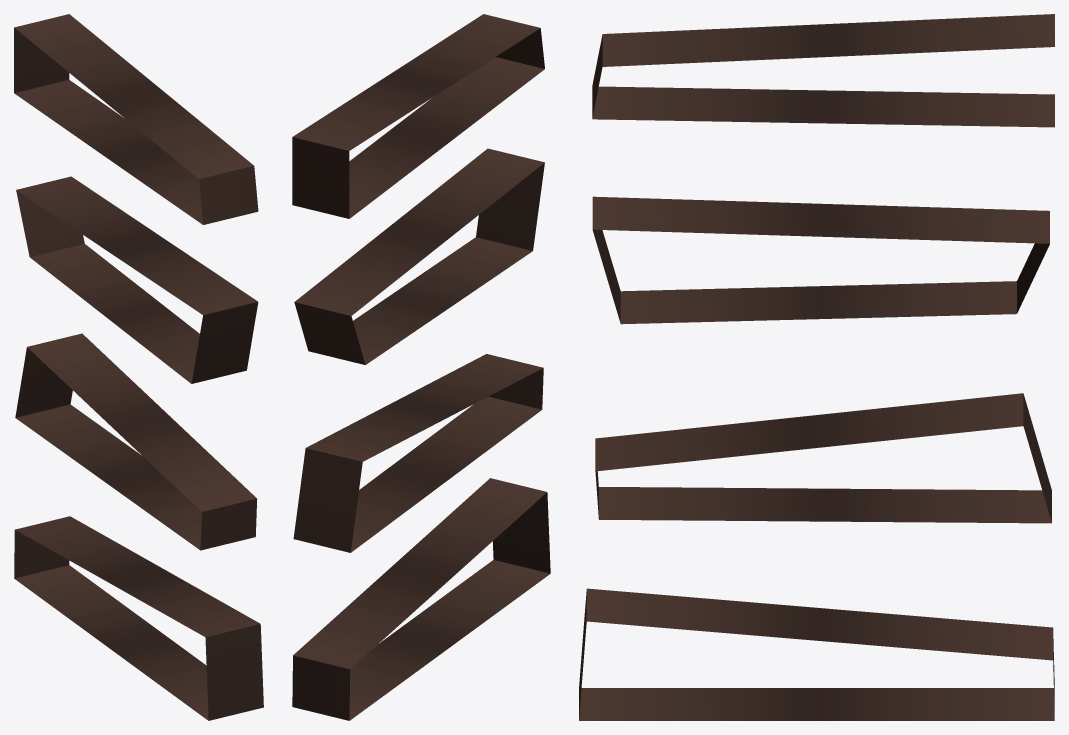
File: SM_WallCoffins_2.fbx
3 renders of one model, left to right at view 1: azimuth 30°, elevation 25°; view 2: azimuth 150°, elevation 25°; view 3: azimuth 270°, elevation 25°, orthographic. The views are drawn at different scales.
Parts seen in each view (by area): view 1: polySurface1; view 2: polySurface1; view 3: polySurface1.
Boxes of the visible parts, x1,y1,x2,y2 form: polySurface1: (14,14,263,720); polySurface1: (292,14,550,720); polySurface1: (579,14,1054,720).
Size of the model in its own units: 0.7949 by 7.57 by 4.85.
